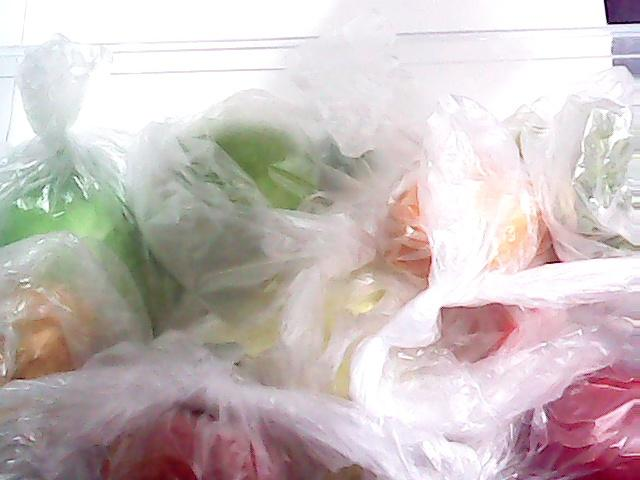apple: (137, 113, 316, 279), (498, 351, 640, 480)
cabbage: (0, 139, 194, 341)
carrot: (492, 259, 602, 377)
lemon: (364, 152, 556, 308)
napa cabbage: (105, 248, 455, 429)
peach: (96, 396, 308, 480)
potato: (0, 283, 92, 389)
radish: (320, 99, 450, 225)
